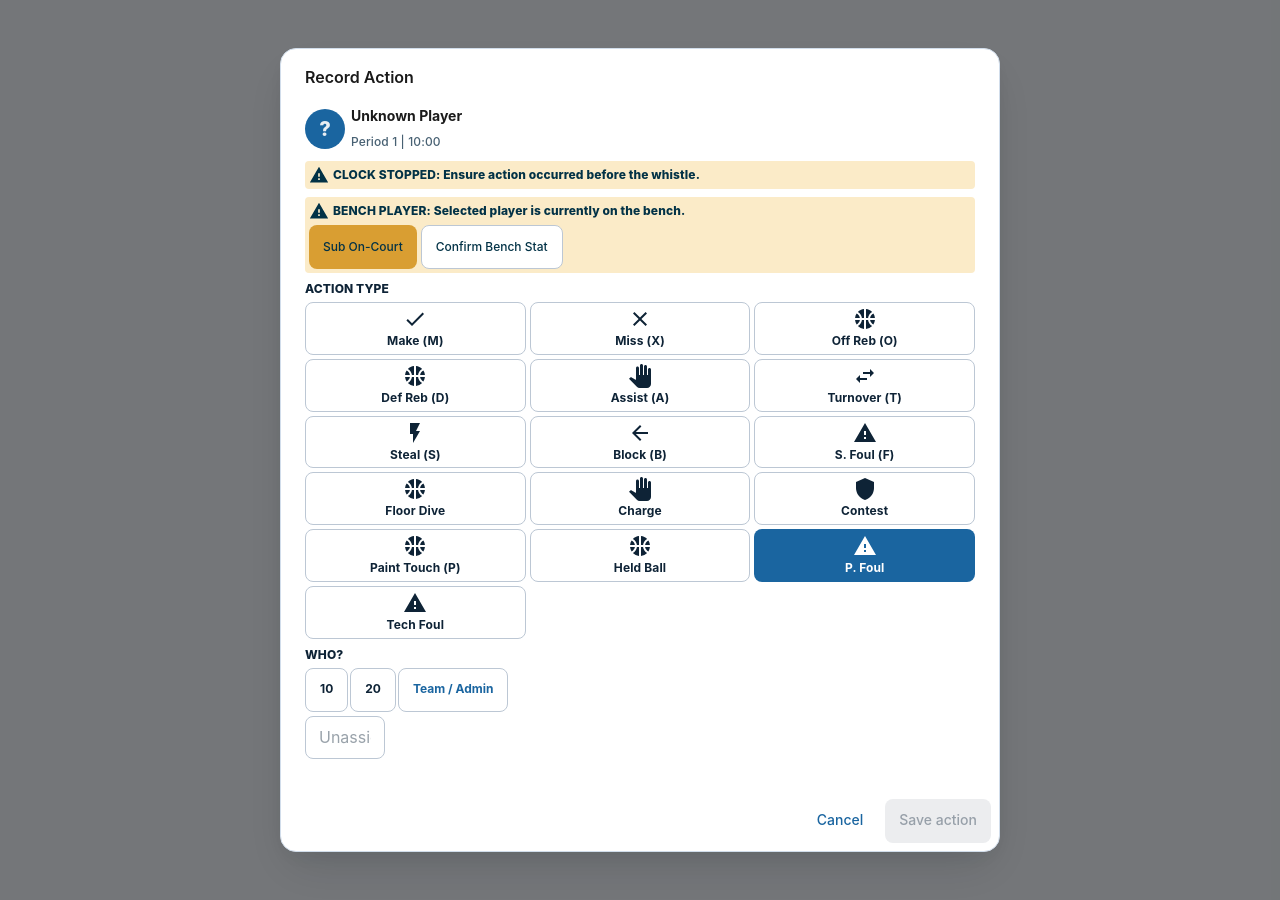
Scenario: StatEntryDialog › warns and disables save when a benched player is selected for personal foul attribution
Expected: the element with test id "bench-player-warning" is shown, [305,197,975,273]
Expected: the button "Save action" is disabled, [885,799,991,843]
Click the button "Confirm Bench Stat": (492, 247) [421,225,563,269]
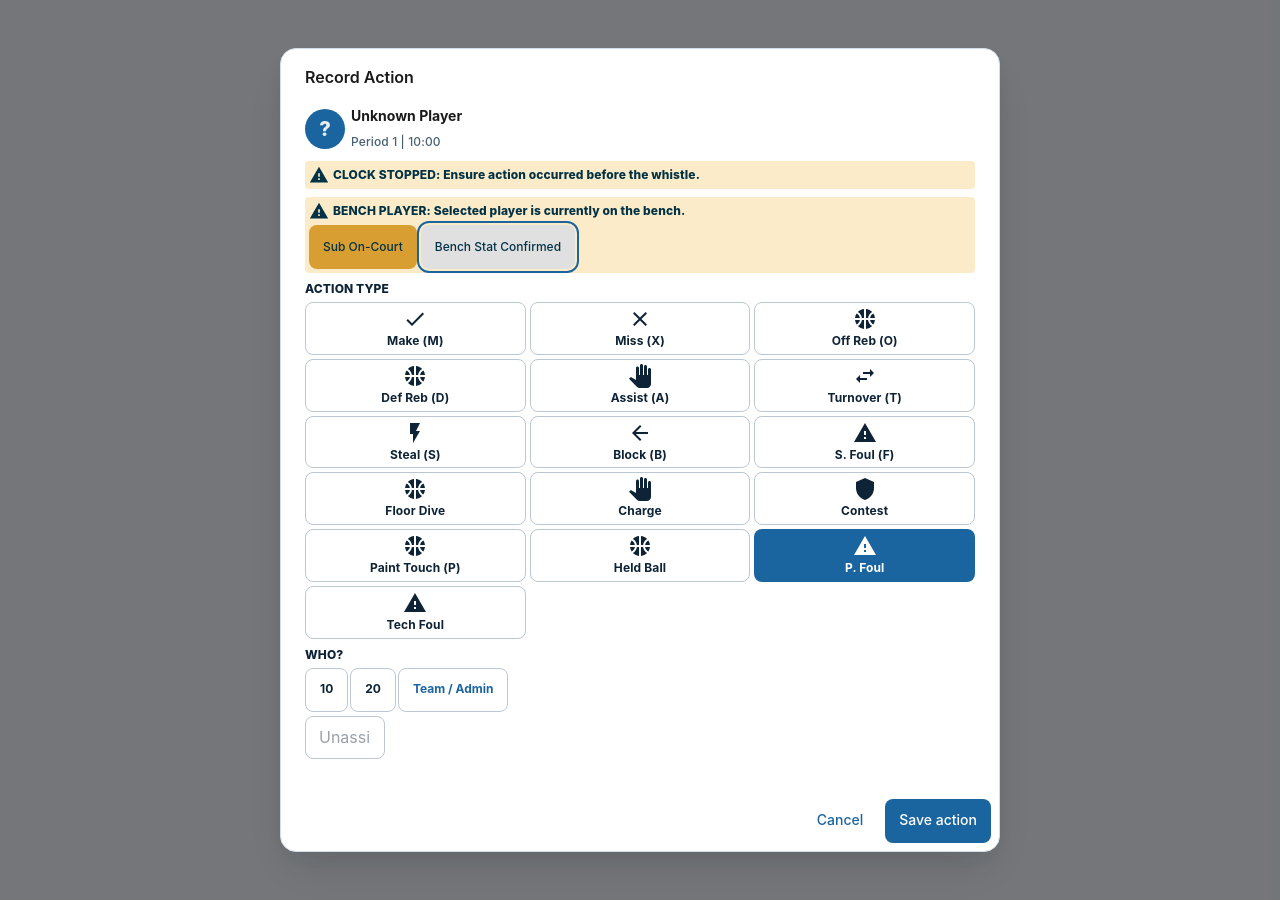
Expected: the button "Save action" is enabled, [885,799,991,843]
